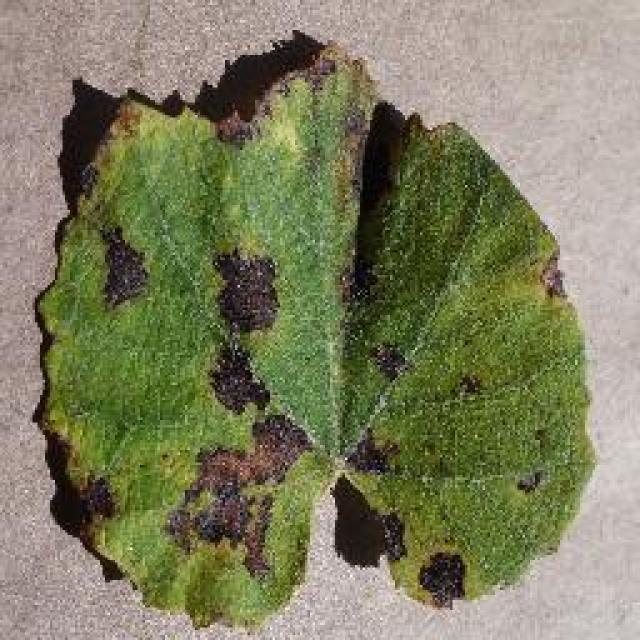Gra_Leaf_blight_Isariopsis_Leaf_Spot: (163, 240, 315, 568), (350, 434, 479, 615), (340, 108, 431, 298), (358, 318, 500, 422), (86, 199, 162, 316), (54, 442, 128, 542)
